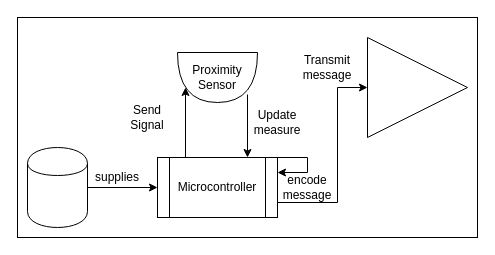
Image size: 495x255. Some labels were removed from this diagram. Here are the shapes that lost their labels. From the top down, the centre of each, then its label:
At pixel 417 87: "Transmission module".
At pixel 57 187: "Battery".
